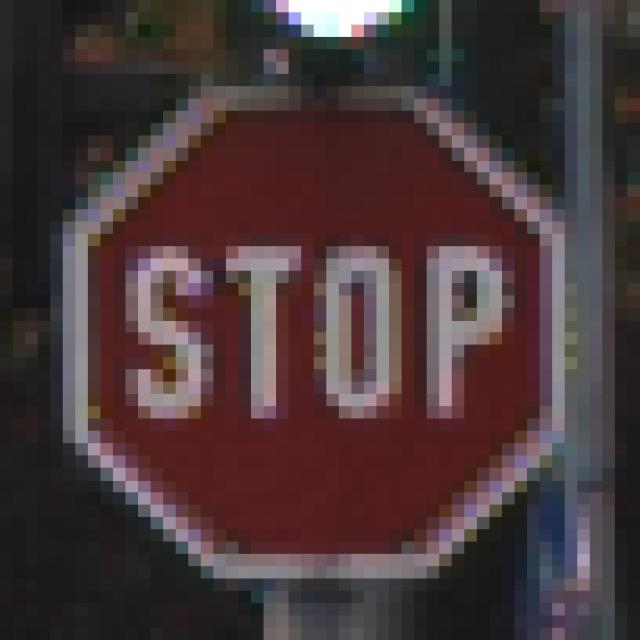STOP: (64, 63, 578, 567)
